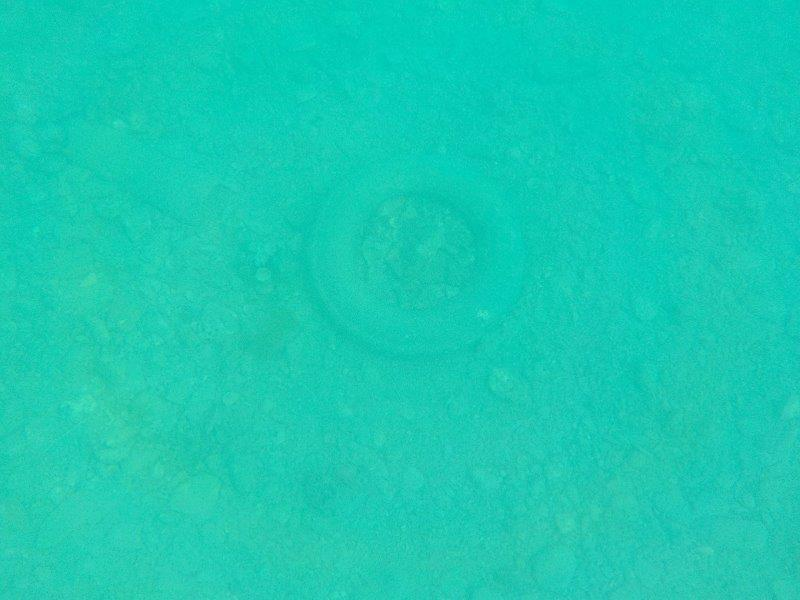tire: (298, 150, 535, 366)
